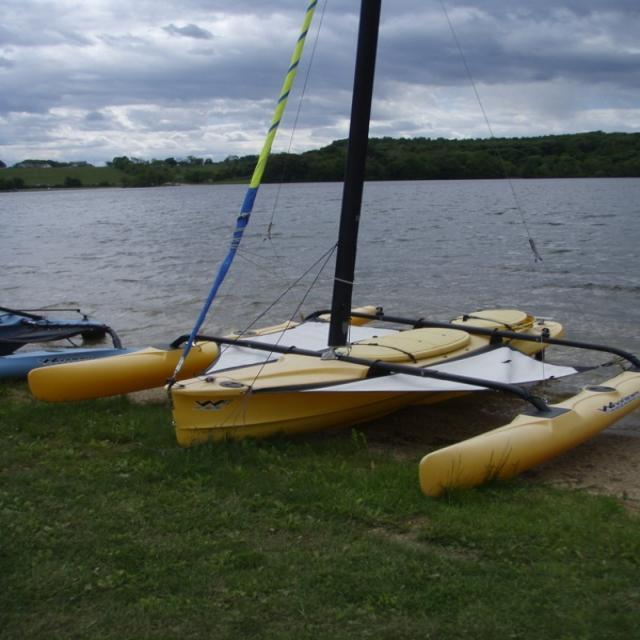Ship: (5, 2, 640, 487)
